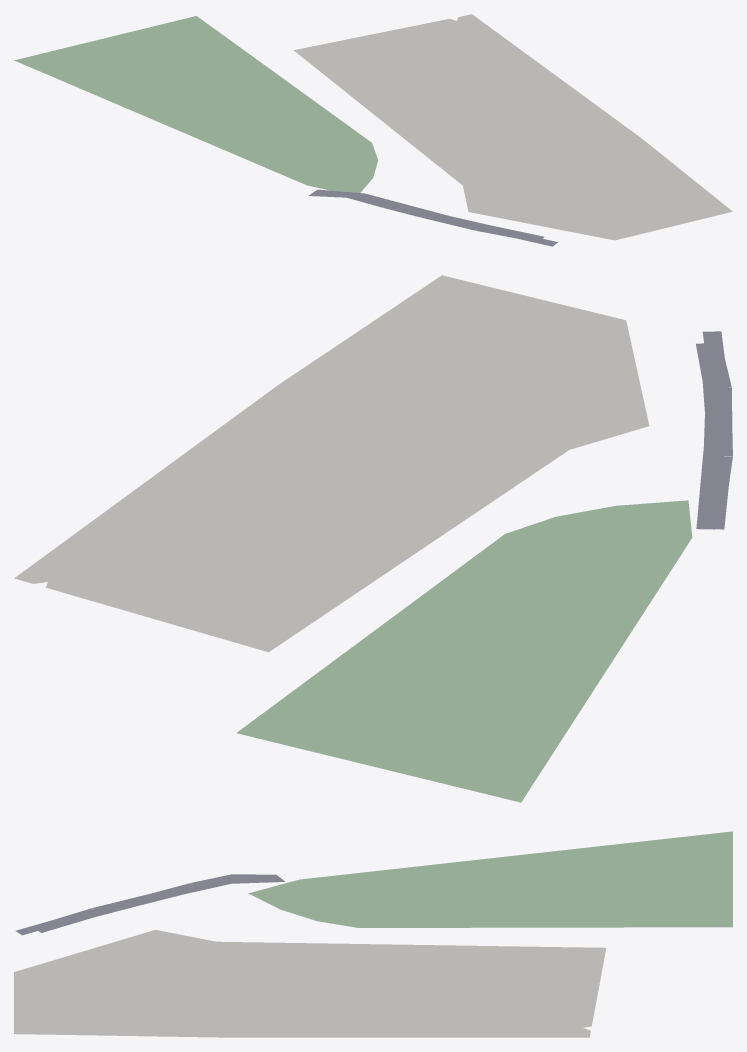
File: 137_104_mid.glb
The picture shows the model from 3 angles, top to bottom: view 1: azimuth 30°, elevation 25°; view 2: azimuth 150°, elevation 25°; view 3: azimuth 270°, elevation 25°; orthographic projection. The views are drawn at different scales.
Bounding box in the file's own units: 338 × 7.76 × 500.
